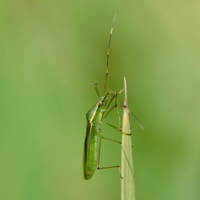insect: (84, 10, 134, 199), (99, 106, 123, 167)
